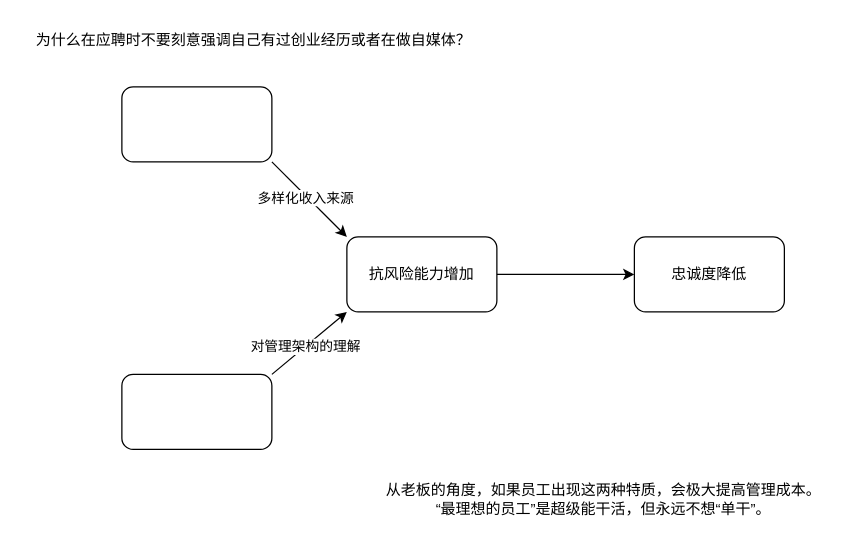
This 855x545 diagram has some shape labels left out. The centre of each missing label's shape, as x and y in pixels:
做自媒体: point 196,124
创业经历: point 196,411
